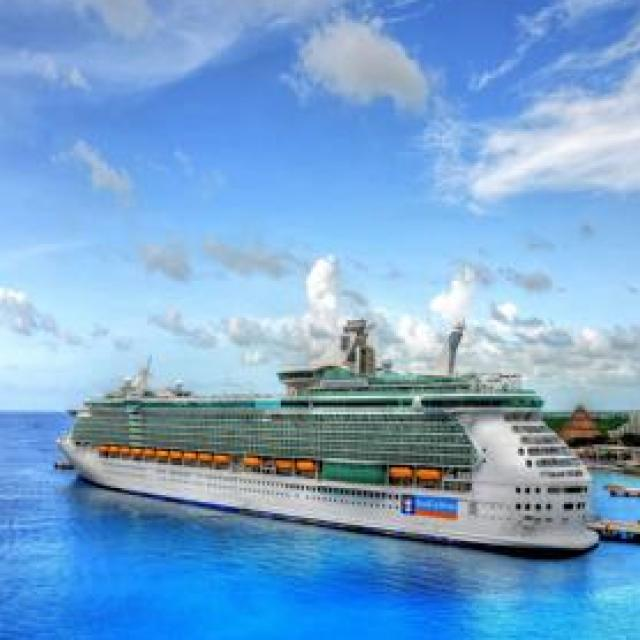passenger ship: (54, 319, 598, 562)
